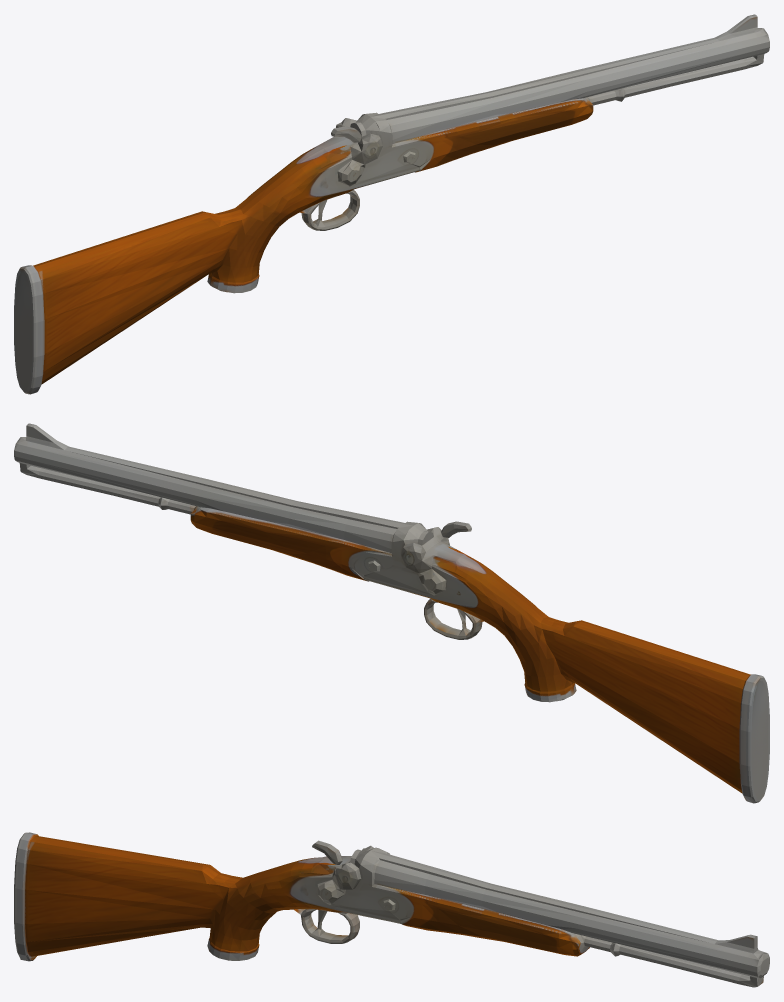
Rendered from Qiang_01.fbx.
The picture shows the model from 3 angles, top to bottom: view 1: azimuth 30°, elevation 25°; view 2: azimuth 150°, elevation 25°; view 3: azimuth 330°, elevation 25°; orthographic projection.
Parts seen in each view (by area): view 1: material; view 2: material; view 3: material.
Boxes of the visible parts, x1,y1,x2,y2 form: material: (14,14,769,394); material: (14,423,769,803); material: (14,832,769,987).
Bounding box in the file's own units: 0.019 × 0.00491 × 0.00123.
